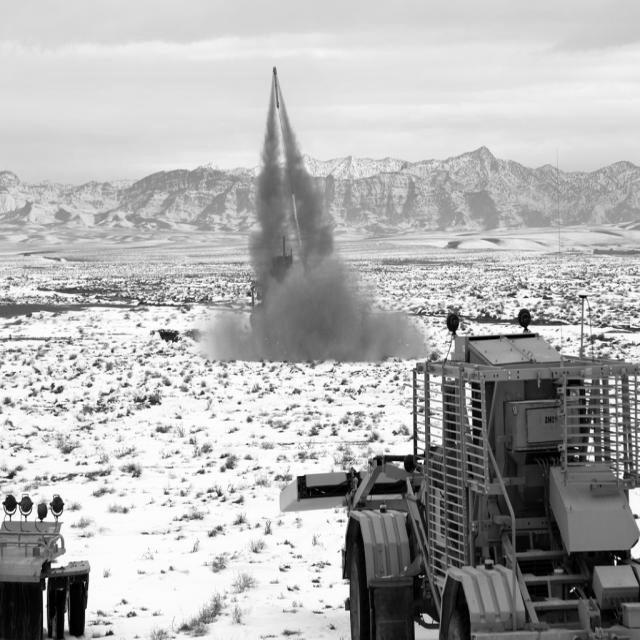missile: (272, 61, 282, 110)
